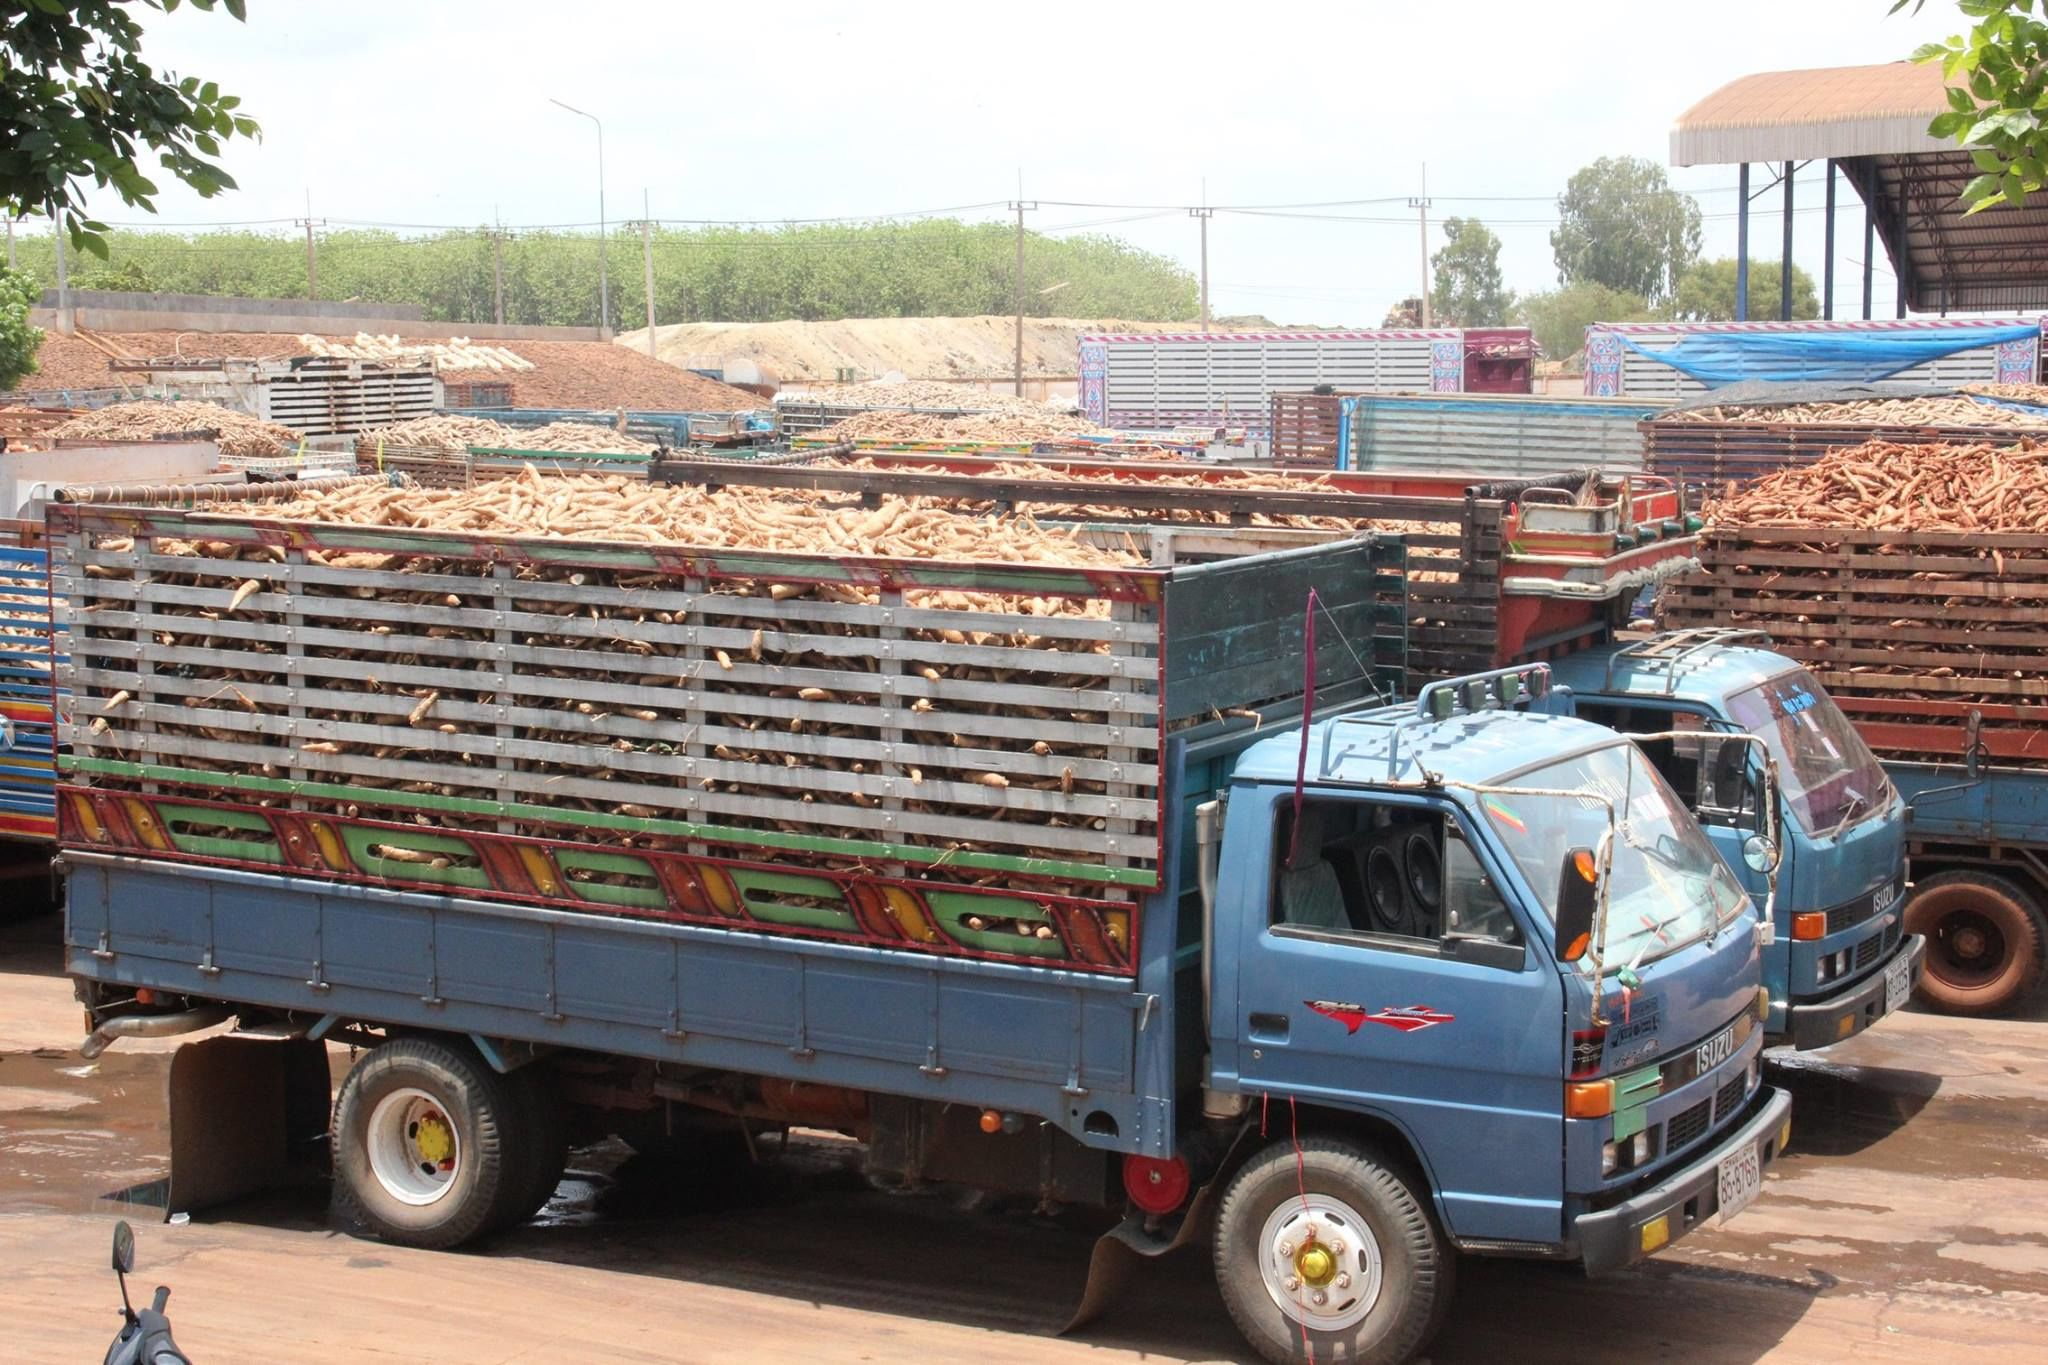truck: (59, 682, 1792, 1348)
